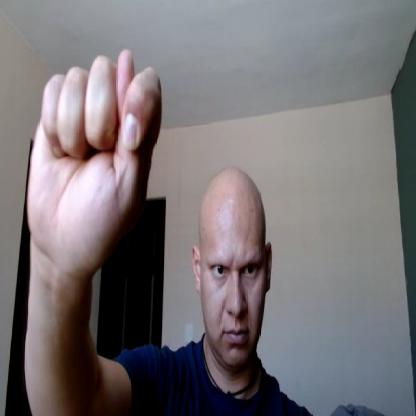T: (28, 43, 165, 267)
